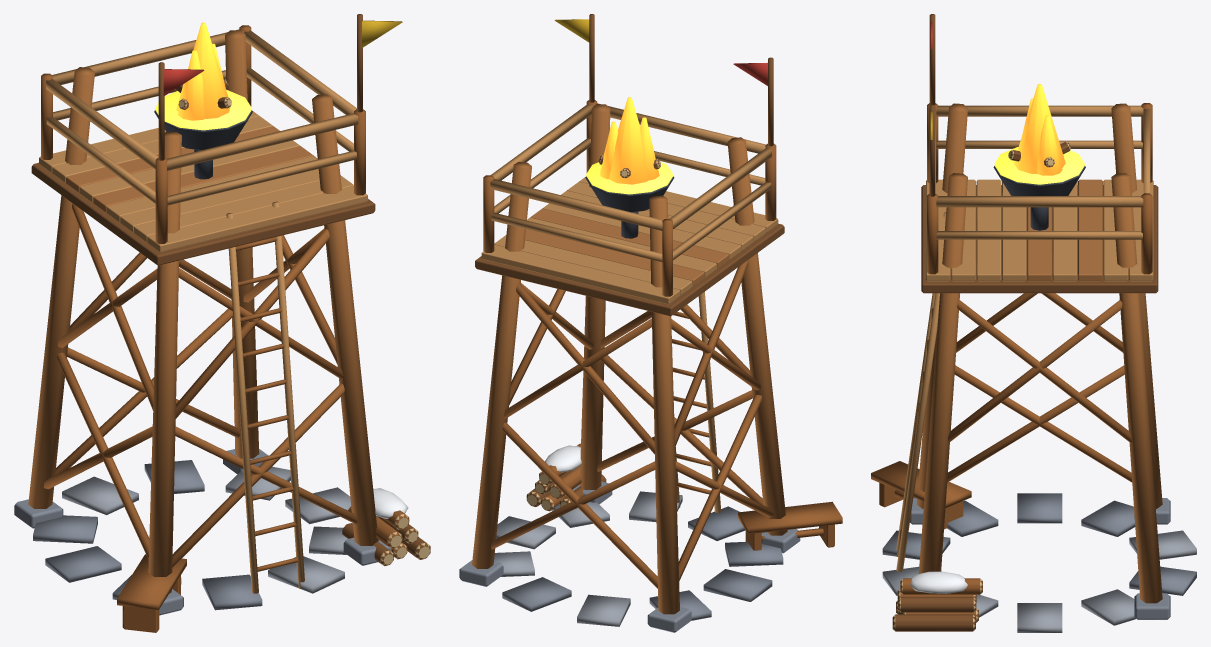
The model's file is watchtower.glb.
3 views of the same model, side by side, from view 1: azimuth 30°, elevation 25°; view 2: azimuth 150°, elevation 25°; view 3: azimuth 270°, elevation 25° (orthographic). The views are drawn at different scales.
Visible parts, largest first — view 1: exterior, roof, floor; view 2: exterior, roof, floor; view 3: exterior, roof, floor.
Boxes of the visible parts, x1=… form: exterior: x1=14, y1=30, x2=430, y2=632; roof: x1=31, y1=14, x2=402, y2=265; floor: x1=33, y1=460, x2=351, y2=610; exterior: x1=459, y1=104, x2=842, y2=632; roof: x1=475, y1=14, x2=784, y2=316; floor: x1=494, y1=491, x2=783, y2=626; exterior: x1=871, y1=103, x2=1170, y2=631; roof: x1=921, y1=14, x2=1158, y2=293; floor: x1=882, y1=493, x2=1196, y2=632.
Bounding box in the file's own units: 2.98 × 4.96 × 2.89.
